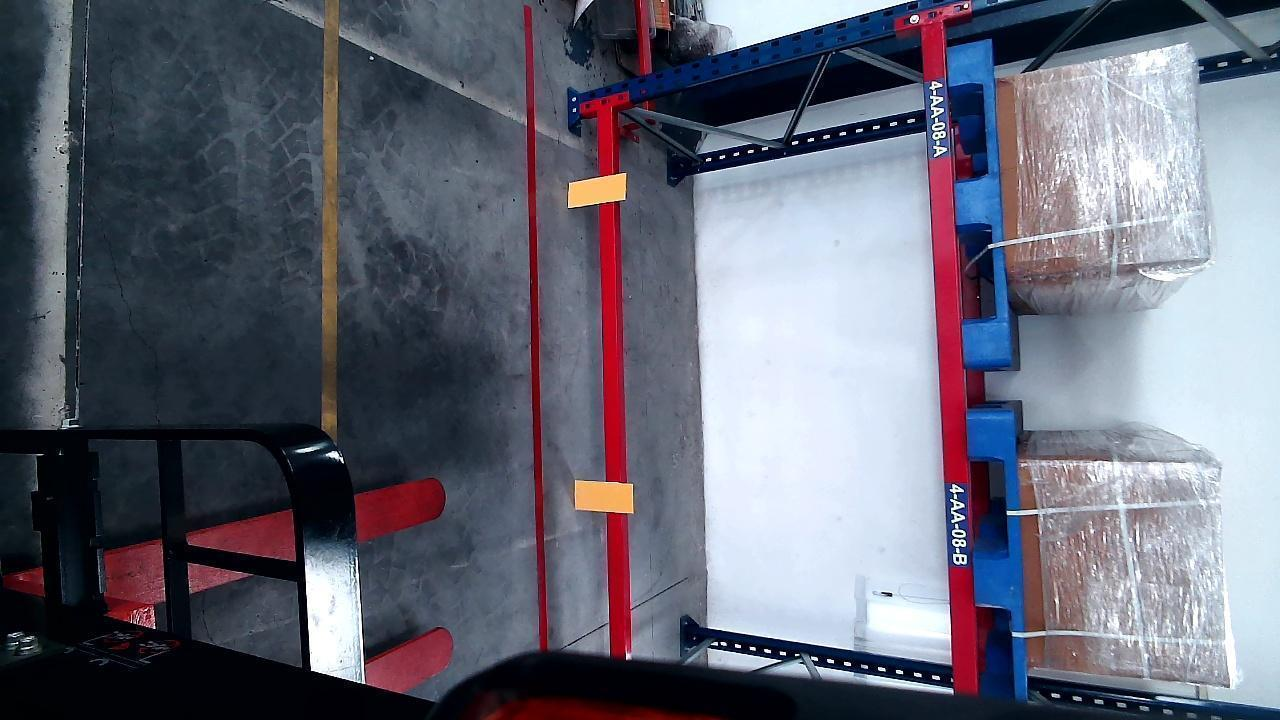red_line: (523, 4, 554, 648)
yellow_line: (318, 5, 342, 422)
